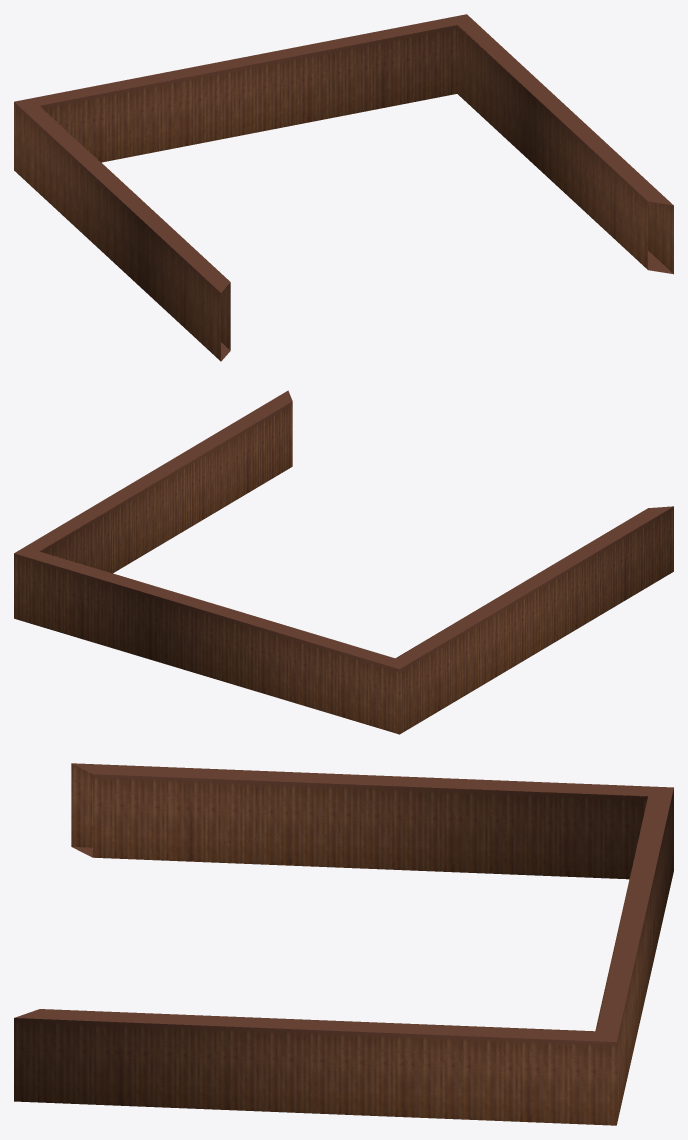
File: WoodWall.FBX
3 renders of one model, top to bottom at view 1: azimuth 30°, elevation 25°; view 2: azimuth 150°, elevation 25°; view 3: azimuth 270°, elevation 25°, orthographic. The views are drawn at different scales.
Visible parts, largest first — view 1: Level1_1_wall; view 2: Level1_1_wall; view 3: Level1_1_wall.
Boxes of the visible parts, x1,y1,x2,y2 form: Level1_1_wall: [14, 14, 673, 361]; Level1_1_wall: [14, 390, 673, 734]; Level1_1_wall: [14, 763, 673, 1125].
Bounding box in the file's own units: 848 × 118 × 848.
